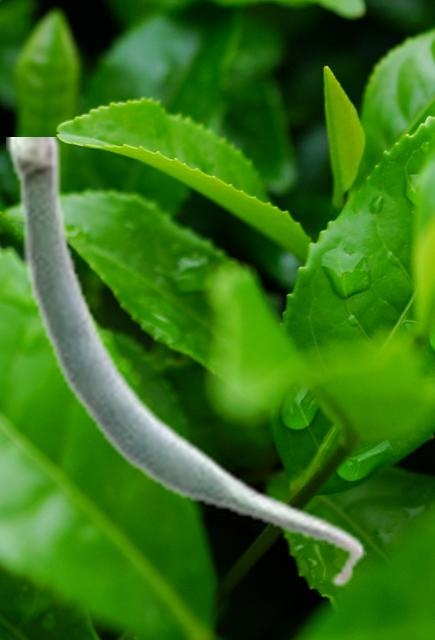french_bean: (6, 137, 365, 589)
